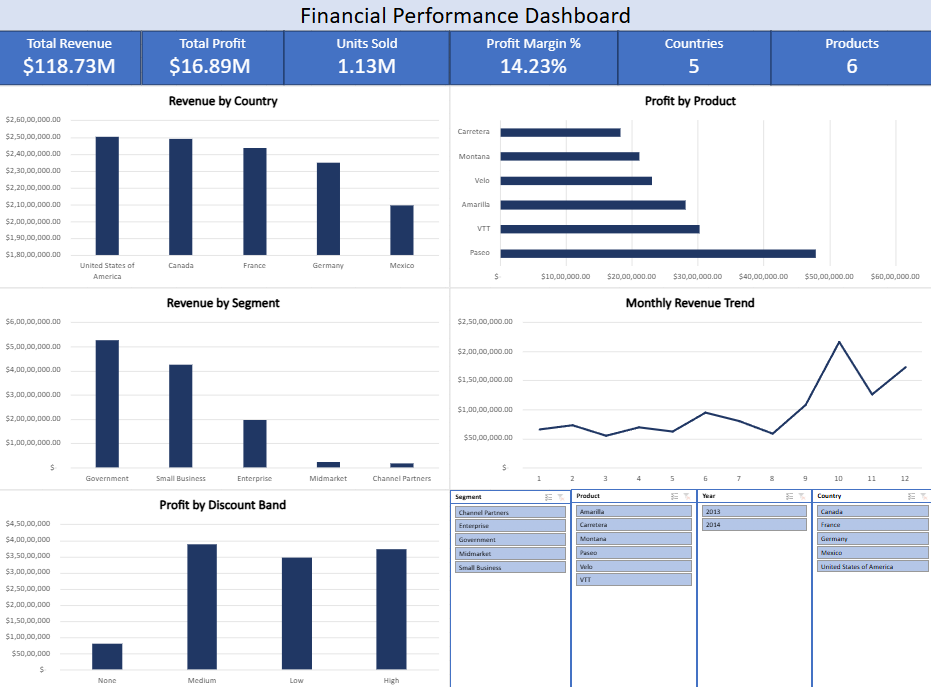

This screenshot's page, from the dashboard's own definition file:
{"tool":"powerbi","page":{"name":"Page 1","canvas":[1280,720],"ordinal":0},"visuals":[{"type":"textbox","box":[9.7,0,1270.3,74.9],"z":0},{"type":"cardVisual","fields":{"Data":["Table1.Total revenue"]},"box":[0,74.9,181.9,106],"z":1000},{"type":"cardVisual","fields":{"Data":["Table1.Total Profit"]},"box":[210.1,74.9,181.9,106],"z":2000},{"type":"cardVisual","fields":{"Data":["Table1.Total Units Sold"]},"box":[436.7,74.9,181.9,106],"z":3000},{"type":"cardVisual","fields":{"Data":["Table1.Countries"]},"box":[887.1,74.9,181.9,106],"z":4000},{"type":"cardVisual","fields":{"Data":["Table1.Products"]},"box":[1098.1,74.9,181.9,106],"z":5000},{"type":"columnChart","title":"Revenue by Country","fields":{"Category":["Table1.Country"],"Y":["Table1.Total revenue"]},"box":[0,180.9,419.2,263.6],"z":6000},{"type":"clusteredBarChart","title":"Profit by  Product ","fields":{"Category":["Table1. Product "],"Y":["Table1.Total Profit"]},"box":[857.9,180.9,422.1,263.6],"z":7000},{"type":"columnChart","title":"Revenue by Segment","fields":{"Category":["Table1.Segment"],"Y":["Table1.Total revenue"]},"box":[857.9,444.5,421.2,275.3],"z":8000},{"type":"lineChart","title":"Monthly Revenue Trend","fields":{"Y":["Table1.Total revenue"],"Category":["Table1. Month_Name "]},"box":[0,450.3,419.2,269.4],"z":9000},{"type":"columnChart","title":"Profit by  Discount Band ","fields":{"Category":["Table1. Discount_Band "],"Y":["Table1.Total Profit"]},"box":[418.2,180.9,439.6,172.2],"z":10000},{"type":"slicer","fields":{"Values":["Table1.Country"]},"box":[419.2,353.1,199.4,181.9],"z":11000},{"type":"slicer","fields":{"Values":["Table1. Product "]},"box":[419.2,535,198.4,184.8],"z":12000},{"type":"slicer","fields":{"Values":["Table1.Segment"]},"box":[659.5,353.1,199.4,181.9],"z":13000},{"type":"slicer","fields":{"Values":["Table1.Year"]},"box":[659.5,535,198.4,184.8],"z":14000},{"type":"cardVisual","fields":{"Data":["Table1.Profit Margin %"]},"box":[669.2,74.9,180.9,106],"z":14001}]}

Visuals, with their boxes on the page's 1280x720 design canvas (x1, y1, x2, y2). These are canvas units, not pixel positions in the 931x687 screenshot, which may show the page scaled, cropped or inside an application window:
textbox: select_region(10, 0, 1280, 75)
cardVisual - Table1.Total revenue: select_region(0, 75, 182, 181)
cardVisual - Table1.Total Profit: select_region(210, 75, 392, 181)
cardVisual - Table1.Total Units Sold: select_region(437, 75, 619, 181)
cardVisual - Table1.Countries: select_region(887, 75, 1069, 181)
cardVisual - Table1.Products: select_region(1098, 75, 1280, 181)
"Revenue by Country" columnChart: select_region(0, 181, 419, 444)
"Profit by  Product " clusteredBarChart: select_region(858, 181, 1280, 444)
"Revenue by Segment" columnChart: select_region(858, 444, 1279, 720)
"Monthly Revenue Trend" lineChart: select_region(0, 450, 419, 720)
"Profit by  Discount Band " columnChart: select_region(418, 181, 858, 353)
slicer - Table1.Country: select_region(419, 353, 619, 535)
slicer - Table1. Product : select_region(419, 535, 618, 720)
slicer - Table1.Segment: select_region(660, 353, 859, 535)
slicer - Table1.Year: select_region(660, 535, 858, 720)
cardVisual - Table1.Profit Margin %: select_region(669, 75, 850, 181)
